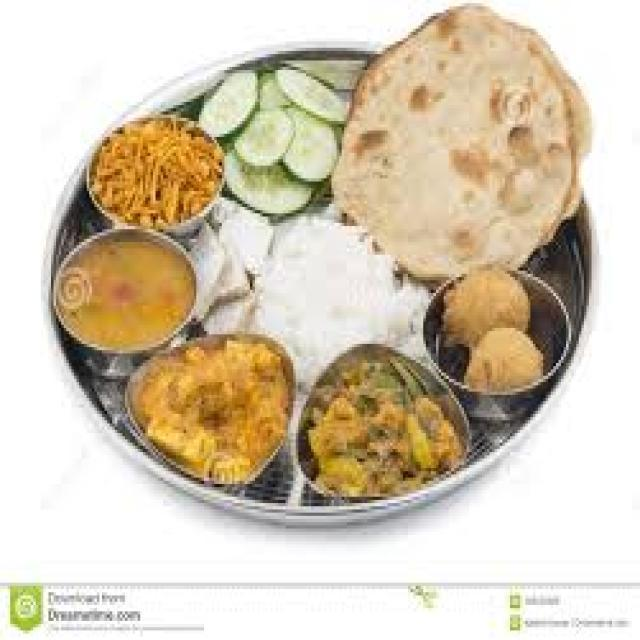dal: (113, 338, 289, 493), (61, 227, 201, 365)
rice: (262, 218, 381, 353)
roti: (340, 16, 575, 273), (88, 116, 216, 233)
veg-fry: (289, 337, 478, 512), (108, 335, 295, 494)
